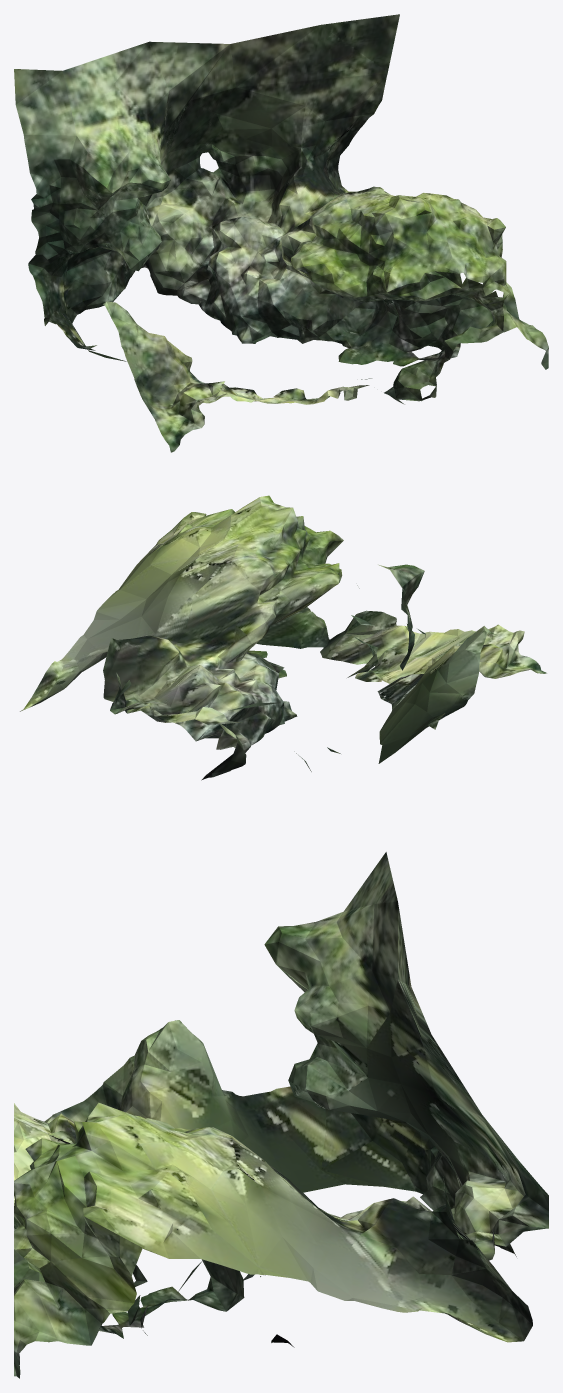
3 renders of one model, top to bottom at view 1: azimuth 30°, elevation 25°; view 2: azimuth 150°, elevation 25°; view 3: azimuth 270°, elevation 25°, orthographic. The views are drawn at different scales.
Bounding box in the file's own units: 26.11 × 18.3 × 26.11.
4 materials, 4 textured.
